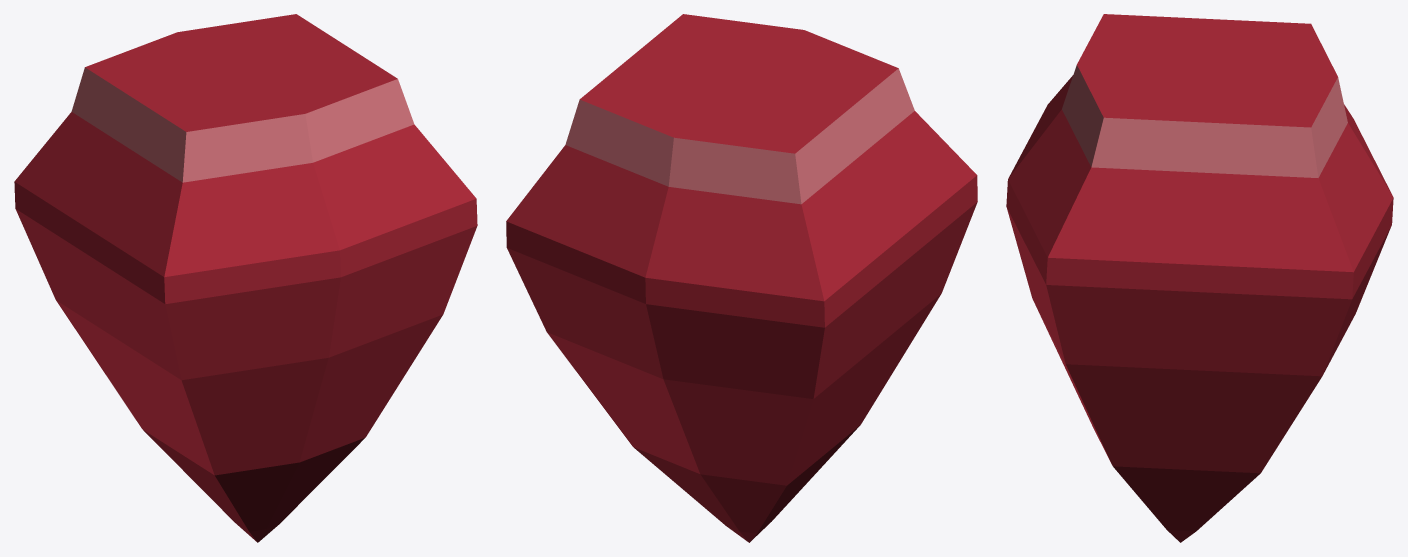
File: ruby.gltf
The picture shows the model from 3 angles, left to right: view 1: azimuth 30°, elevation 25°; view 2: azimuth 150°, elevation 25°; view 3: azimuth 270°, elevation 25°; orthographic projection. The views are drawn at different scales.
Visible parts, largest first — view 1: ruby; view 2: ruby; view 3: ruby.
Part boxes in pixels (left/top/right/bottom): ruby: left=14, top=14, right=477, bottom=542; ruby: left=506, top=14, right=977, bottom=542; ruby: left=1006, top=14, right=1393, bottom=542.
Bounding box in the file's own units: 0.142 × 0.2027 × 0.1492.
